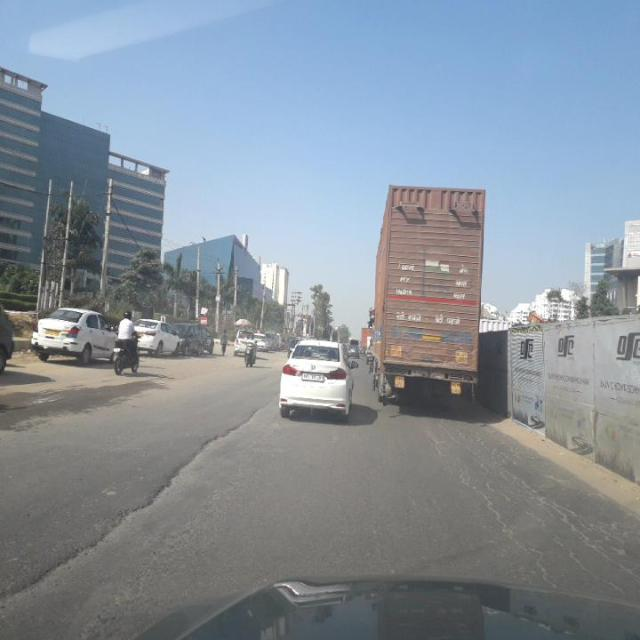D20: (428, 419, 634, 617)
